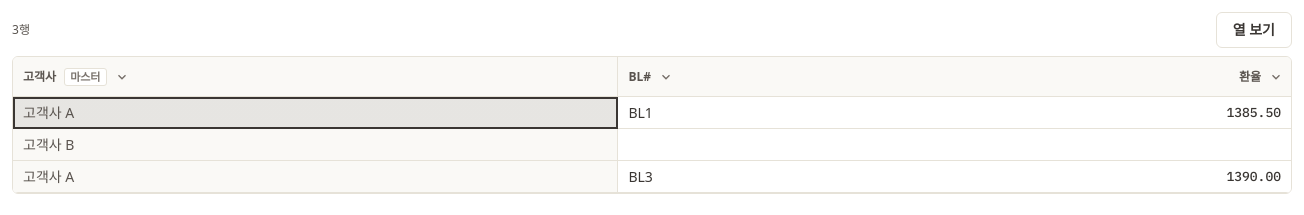
Test: 끌어서 고른 범위를 탭으로 나눠 복사해요
Press the mouse on the cell "고객사 A" next to "BL1": {"x": 316, "y": 113} [13,97,618,129]
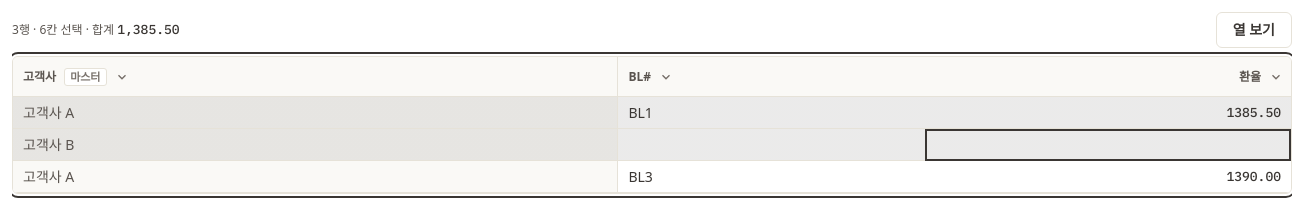
Now the text "· 6칸 선택 · 합계 1,385.50" is shown, box [30,21,180,38]
